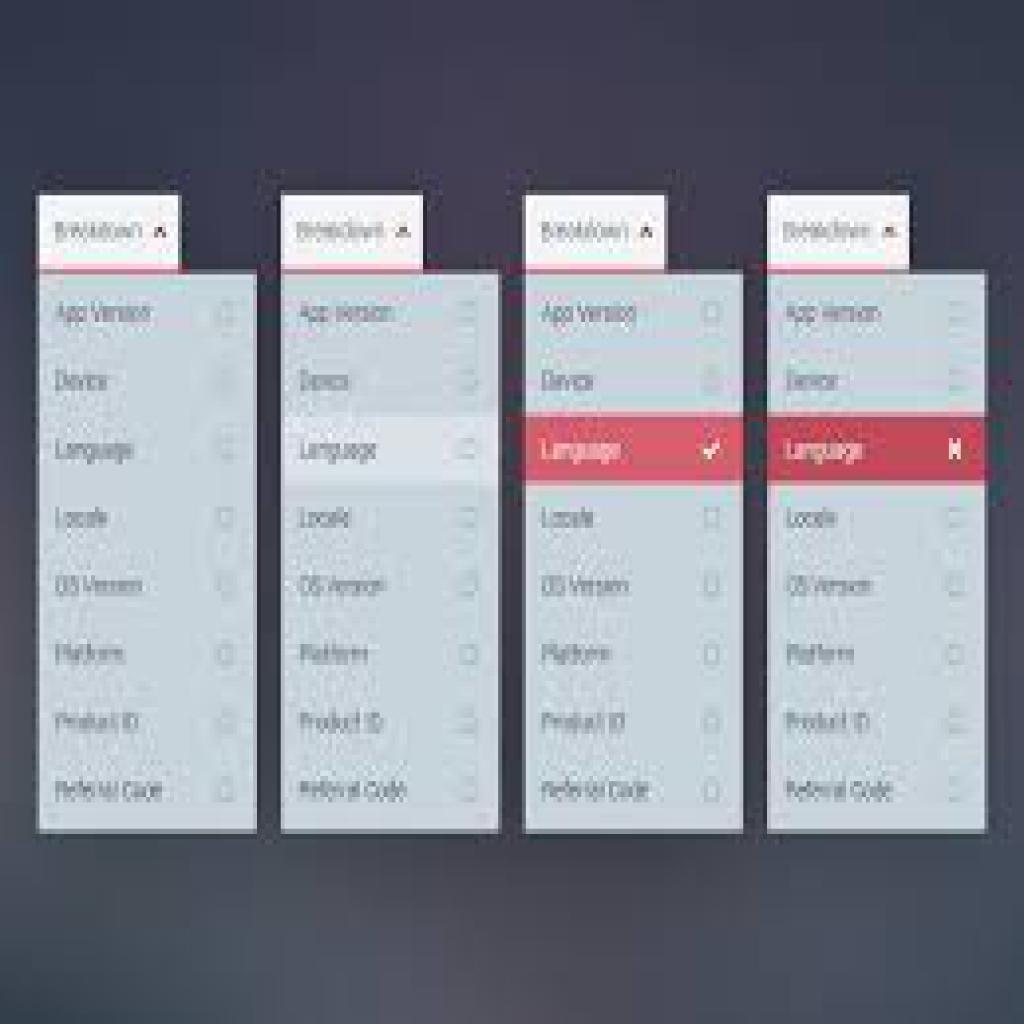dropdown: (767, 192, 913, 272), (281, 195, 425, 271), (525, 195, 665, 272), (39, 196, 182, 270)
